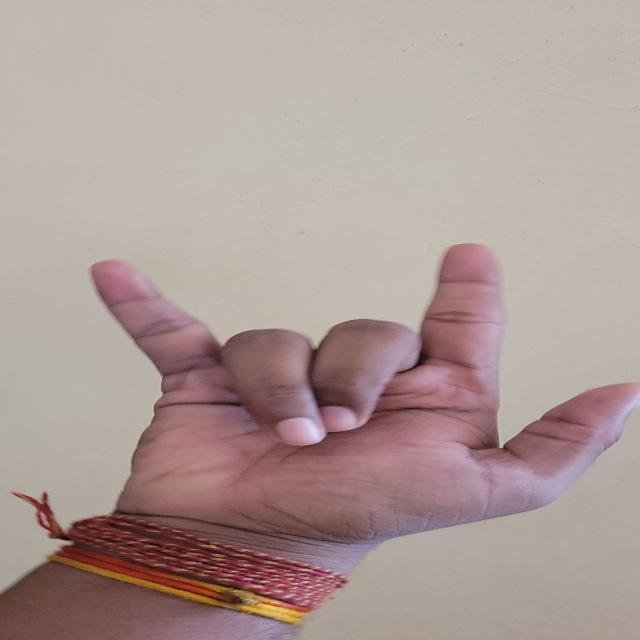i like you: (29, 190, 640, 578)
